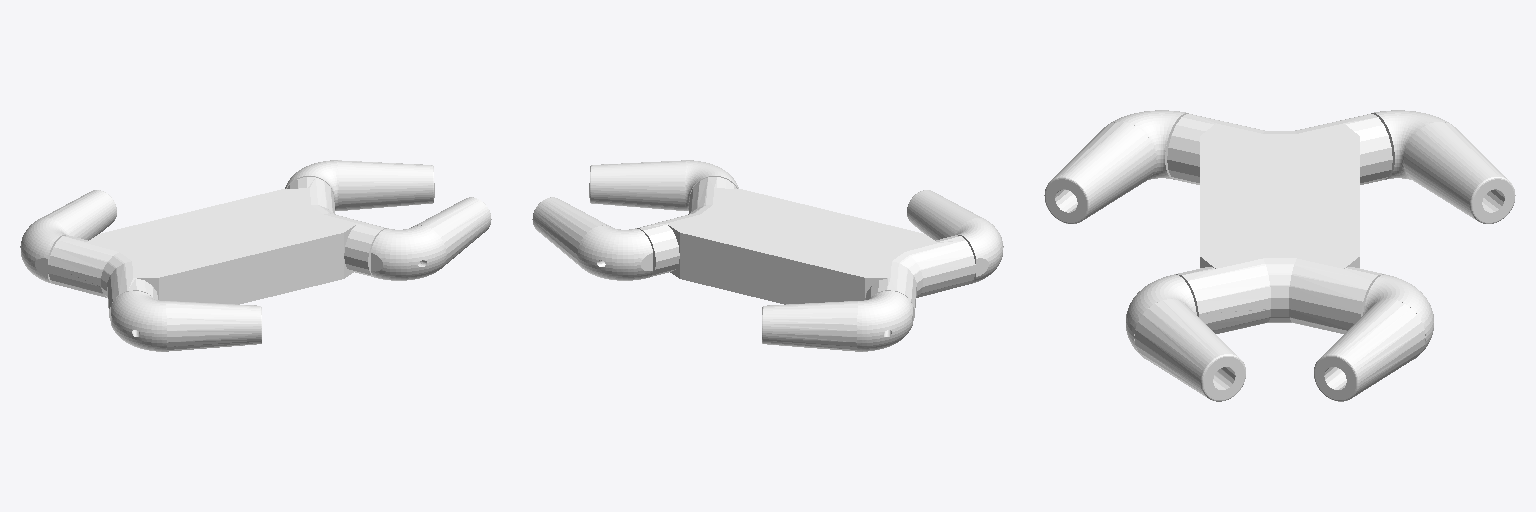
The robot description file, URDF, robot "28_degree":
<?xml version="1.0" encoding="utf-8"?>
<!-- This URDF was automatically created by SolidWorks to URDF Exporter! Originally created by [author] ([email redacted]) 
     Commit Version: 1.5.1-0-g916b5db  Build Version: 1.5.7152.31018
     For more information, please see http://wiki.ros.org/sw_urdf_exporter -->
<robot
  name="28_degree">
  <link
    name="base_link">
    <inertial>
      <origin
        xyz="3.4694E-17 5.2719E-08 6.9044E-08"
        rpy="0 0 0" />
      <mass
        value="2.942" />
      <inertia
        ixx="0.0093436"
        ixy="2.6379E-08"
        ixz="-1.5248E-10"
        iyy="0.0487381"
        iyz="2.4191E-18"
        izz="0.0556430" />
    </inertial>
    <visual>
      <origin
        xyz="0 0 0"
        rpy="0 0 0" />
      <geometry>
        <mesh
          filename="package://28_degree/meshes/base_link.STL" />
      </geometry>
      <material
        name="">
        <color
          rgba="1 1 1 1" />
      </material>
    </visual>
    <collision>
      <origin
        xyz="0 0 0"
        rpy="0 0 0" />
      <geometry>
        <mesh
          filename="package://28_degree/meshes/base_link.STL" />
      </geometry>
    </collision>
  </link>
  <link
    name="left_front_link">
    <inertial>
      <origin
        xyz="-8.9942E-08 0.056834 -0.03601"
        rpy="0 0 0" />
      <mass
        value="0.092" />
      <inertia
        ixx="0.0002604"
        ixy="4.9465E-10"
        ixz="6.1391E-10"
        iyy="0.0000526"
        iyz="2.27E-05"
        izz="0.0002575" />
    </inertial>
    <visual>
      <origin
        xyz="0 0 0"
        rpy="0 0 0" />
      <geometry>
        <mesh
          filename="package://28_degree/meshes/left_front_link.STL" />
      </geometry>
      <material
        name="">
        <color
          rgba="1 1 1 1" />
      </material>
    </visual>
    <collision>
      <origin
        xyz="0 0 0"
        rpy="0 0 0" />
      <geometry>
        <mesh
          filename="package://28_degree/meshes/left_front_link.STL" />
      </geometry>
    </collision>
  </link>
  <joint
    name="left_front_leg"
    type="continuous">
    <origin
      xyz="0.17836 0.090944 0"
      rpy="2.0595 1.5708 0" />
    <parent
      link="base_link" />
    <child
      link="left_front_link" />
    <axis
      xyz="0 0 -1" />
    <limit
      effort="5"
      velocity="487" />
  </joint>
  <link
    name="right_front_link">
    <inertial>
      <origin
        xyz="8.9942E-08 0.056834 0.03601"
        rpy="0 0 0" />
      <mass
        value="0.092" />
      <inertia
        ixx="0.0002604"
        ixy="-4.9465E-10"
        ixz="6.1391E-10"
        iyy="0.0000526"
        iyz="-2.27E-05"
        izz="0.0002575" />
    </inertial>
    <visual>
      <origin
        xyz="0 0 0"
        rpy="0 0 0" />
      <geometry>
        <mesh
          filename="package://28_degree/meshes/right_front_link.STL" />
      </geometry>
      <material
        name="">
        <color
          rgba="1 1 1 1" />
      </material>
    </visual>
    <collision>
      <origin
        xyz="0 0 0"
        rpy="0 0 0" />
      <geometry>
        <mesh
          filename="package://28_degree/meshes/right_front_link.STL" />
      </geometry>
    </collision>
  </link>
  <joint
    name="right_front_leg"
    type="continuous">
    <origin
      xyz="0.17836 -0.090944 0"
      rpy="1.0821 1.5708 0" />
    <parent
      link="base_link" />
    <child
      link="right_front_link" />
    <axis
      xyz="0 0 1" />
    <limit
      effort="5"
      velocity="487" />
  </joint>
  <link
    name="right_back_link">
    <inertial>
      <origin
        xyz="8.1709E-08 0.056834 0.03601"
        rpy="0 0 0" />
      <mass
        value="0.092" />
      <inertia
        ixx="0.0002604"
        ixy="-4.5205E-10"
        ixz="6.0402E-10"
        iyy="0.0000526"
        iyz="-2.27E-05"
        izz="0.0002575" />
    </inertial>
    <visual>
      <origin
        xyz="0 0 0"
        rpy="0 0 0" />
      <geometry>
        <mesh
          filename="package://28_degree/meshes/right_back_link.STL" />
      </geometry>
      <material
        name="">
        <color
          rgba="1 1 1 1" />
      </material>
    </visual>
    <collision>
      <origin
        xyz="0 0 0"
        rpy="0 0 0" />
      <geometry>
        <mesh
          filename="package://28_degree/meshes/right_back_link.STL" />
      </geometry>
    </collision>
  </link>
  <joint
    name="right_back_leg"
    type="continuous">
    <origin
      xyz="-0.17836 -0.090944 0"
      rpy="2.0595 1.5708 0" />
    <parent
      link="base_link" />
    <child
      link="right_back_link" />
    <axis
      xyz="0 0 1" />
    <limit
      effort="5"
      velocity="487" />
  </joint>
  <link
    name="left_back_link">
    <inertial>
      <origin
        xyz="-8.1709E-08 0.056834 -0.03601"
        rpy="0 0 0" />
      <mass
        value="0.092" />
      <inertia
        ixx="0.0002604"
        ixy="4.5205E-10"
        ixz="6.0402E-10"
        iyy="0.0000526"
        iyz="2.27E-05"
        izz="0.0002575" />
    </inertial>
    <visual>
      <origin
        xyz="0 0 0"
        rpy="0 0 0" />
      <geometry>
        <mesh
          filename="package://28_degree/meshes/left_back_link.STL" />
      </geometry>
      <material
        name="">
        <color
          rgba="1 1 1 1" />
      </material>
    </visual>
    <collision>
      <origin
        xyz="0 0 0"
        rpy="0 0 0" />
      <geometry>
        <mesh
          filename="package://28_degree/meshes/left_back_link.STL" />
      </geometry>
    </collision>
  </link>
  <joint
    name="left_back_leg"
    type="continuous">
    <origin
      xyz="-0.17836 0.090944 0"
      rpy="1.0821 1.5708 0" />
    <parent
      link="base_link" />
    <child
      link="left_back_link" />
    <axis
      xyz="0 0 -1" />
    <limit
      effort="5"
      velocity="487" />
  </joint>
</robot>

--- Facts derived from the render (not from the file) ---
The picture shows the robot from 3 angles, left to right: view 1: azimuth 30°, elevation 25°; view 2: azimuth 150°, elevation 25°; view 3: azimuth 270°, elevation 25°; orthographic projection.
Model 28_degree with 5 links and 4 joints (4 continuous), rooted at base_link, posed every joint at zero.
Links seen in each view (by area): view 1: base_link, right_back_link, right_front_link, left_front_link, left_back_link; view 2: base_link, left_back_link, left_front_link, right_front_link, right_back_link; view 3: base_link, right_back_link, left_back_link, left_front_link, right_front_link.
Link boxes in pixels (bbox=[...]): base_link: bbox=[48, 177, 386, 320]; right_back_link: bbox=[111, 291, 261, 351]; right_front_link: bbox=[371, 197, 491, 280]; left_front_link: bbox=[285, 160, 434, 210]; left_back_link: bbox=[20, 190, 116, 283]; base_link: bbox=[637, 177, 975, 320]; left_back_link: bbox=[762, 291, 912, 351]; left_front_link: bbox=[532, 197, 652, 280]; right_front_link: bbox=[589, 160, 738, 210]; right_back_link: bbox=[907, 190, 1003, 283]; base_link: bbox=[1167, 114, 1392, 333]; right_back_link: bbox=[1044, 110, 1188, 223]; left_back_link: bbox=[1371, 110, 1515, 223]; left_front_link: bbox=[1314, 274, 1433, 401]; right_front_link: bbox=[1126, 274, 1245, 401].
Size in the robot's own frame: 0.5632 by 0.4424 by 0.064 metres.
Meshes: 5 distinct files referenced, 5 mesh visuals loaded (5 binary STL).